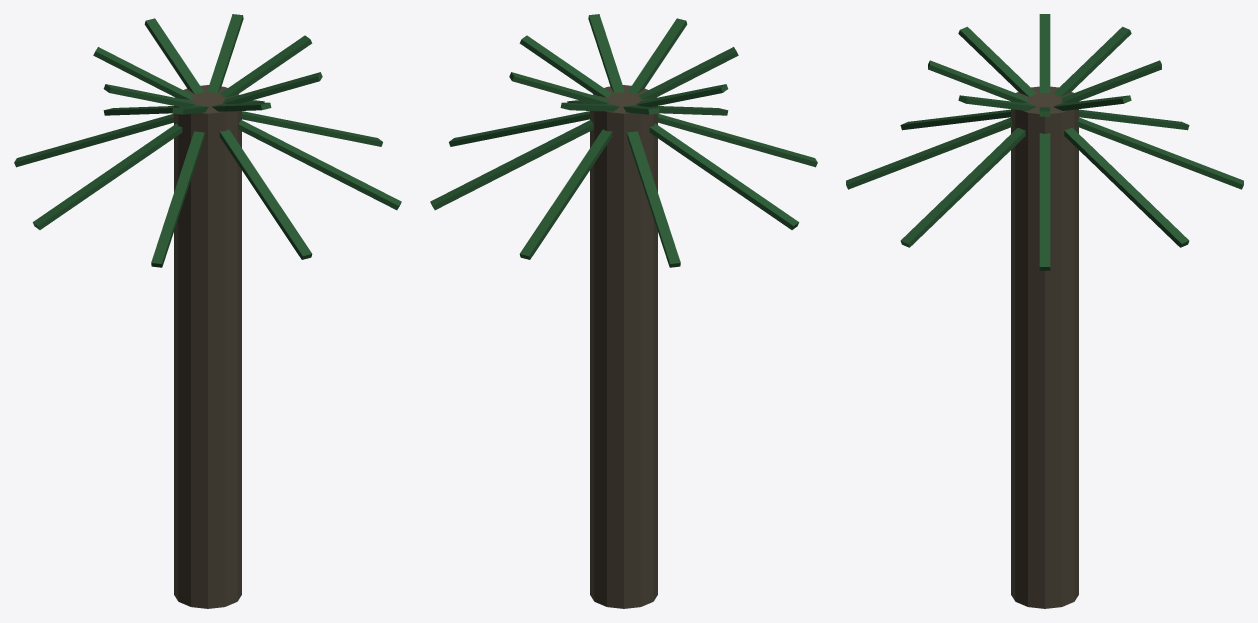
Rendered from PRP_PalmTree_BCH_v001.glb.
The picture shows the model from 3 angles, left to right: view 1: azimuth 30°, elevation 25°; view 2: azimuth 150°, elevation 25°; view 3: azimuth 270°, elevation 25°; orthographic projection.
Visible parts, largest first — view 1: PRP_PalmTree_BCH_v001; view 2: PRP_PalmTree_BCH_v001; view 3: PRP_PalmTree_BCH_v001.
Boxes of the visible parts, bbox=[...] form: PRP_PalmTree_BCH_v001: bbox=[14, 14, 401, 608]; PRP_PalmTree_BCH_v001: bbox=[430, 14, 817, 608]; PRP_PalmTree_BCH_v001: bbox=[846, 14, 1243, 608].
Bounding box in the file's own units: 2.92 × 4.31 × 2.92.
